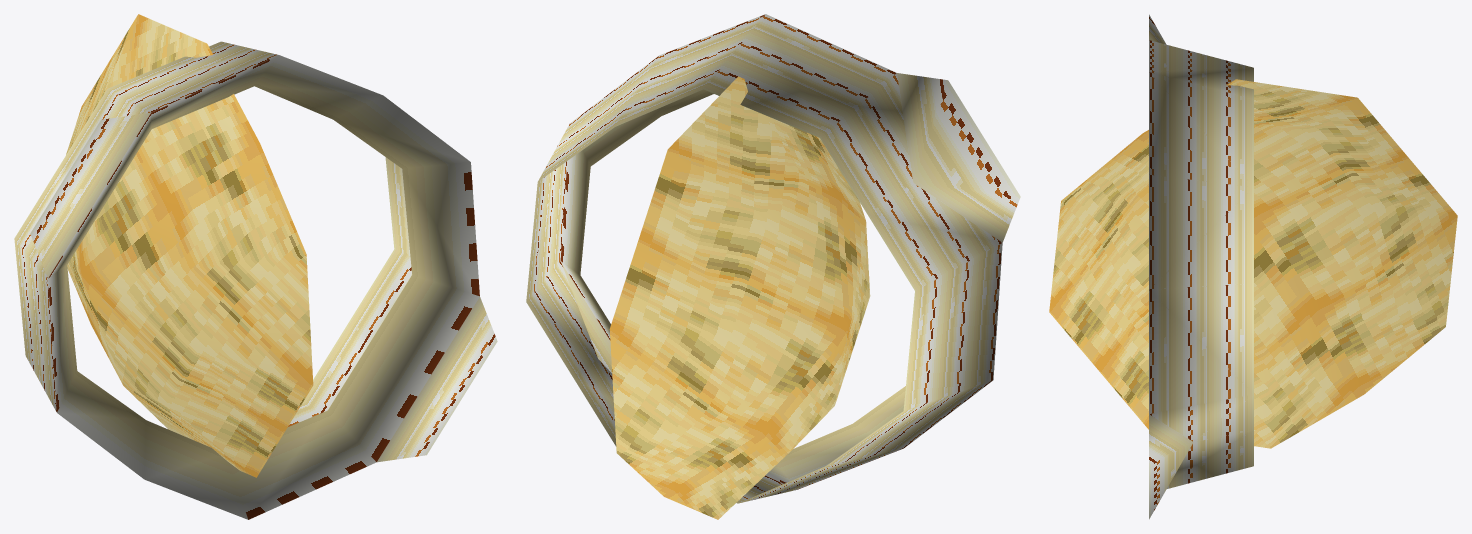
File: 1400item2790r.gltf
3 views of the same model, side by side, from view 1: azimuth 30°, elevation 25°; view 2: azimuth 150°, elevation 25°; view 3: azimuth 270°, elevation 25° (orthographic). The views are drawn at different scales.
Parts seen in each view (by area): view 1: 1400item2790r; view 2: 1400item2790r; view 3: 1400item2790r.
Part boxes in pixels (bbox=[...]): 1400item2790r: bbox=[14, 14, 497, 519]; 1400item2790r: bbox=[526, 14, 1020, 519]; 1400item2790r: bbox=[1049, 14, 1457, 519].
Size of what is drawn, in the model's own units: 1.06 by 0.9888 by 0.908.
Materials: 2 (2 with a texture image).
